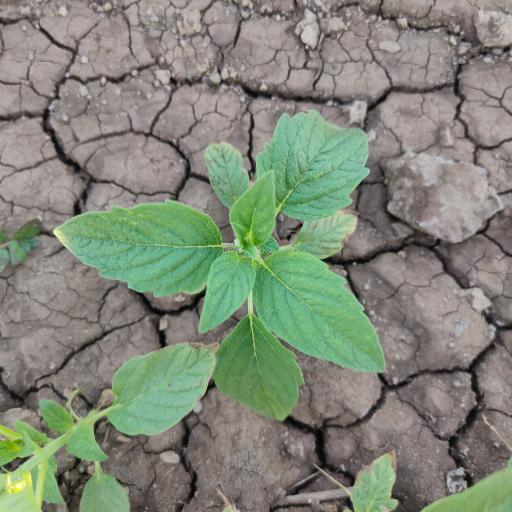crop: (49, 94, 414, 429)
